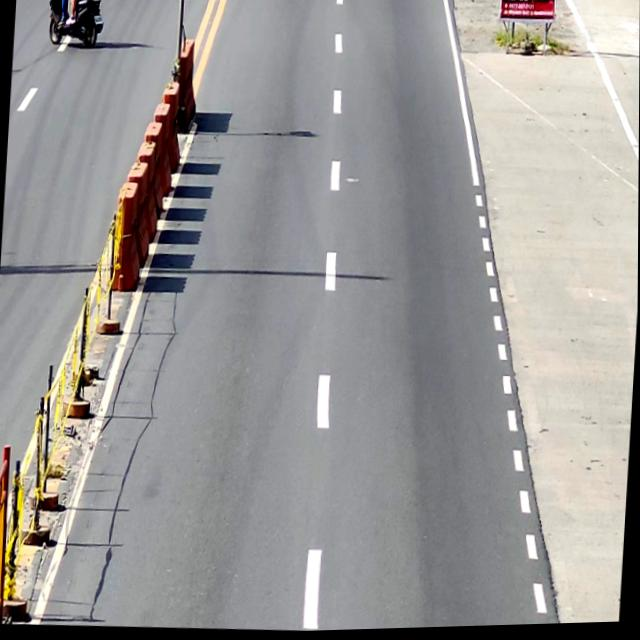Motorcycle: (46, 0, 105, 50)
